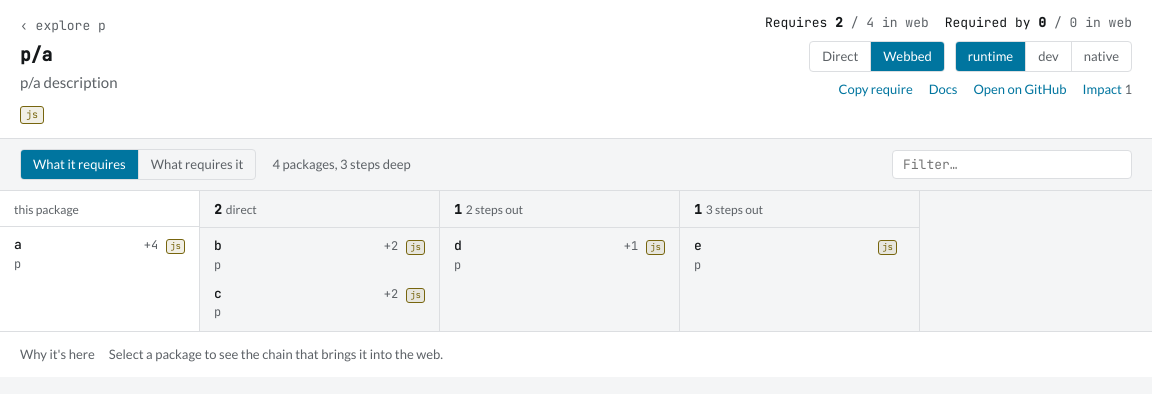
Webbed › filters every column at once
Type "p/c" into the search field named "Filter the web by id".
click(1012, 164); type("p/c")  # box [892,150,1132,179]
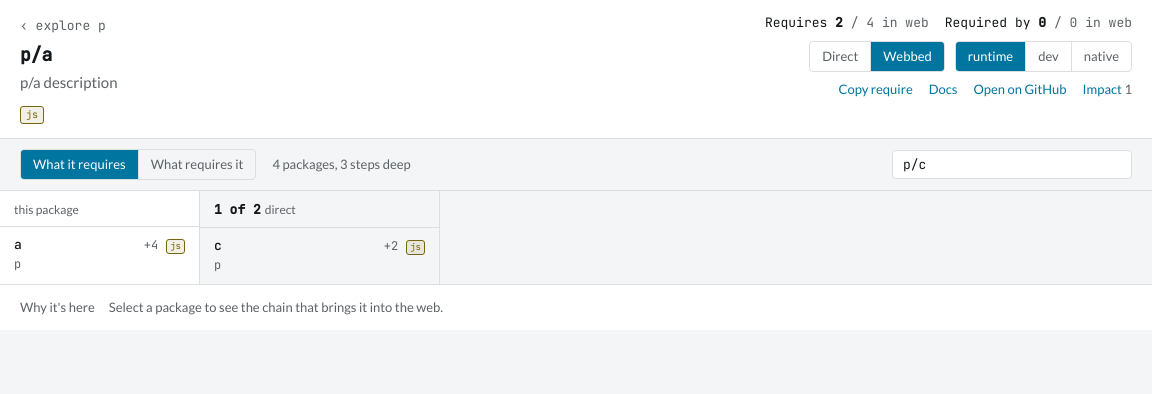
Now the text "1 of 2" is shown, box [214,200,261,218]
